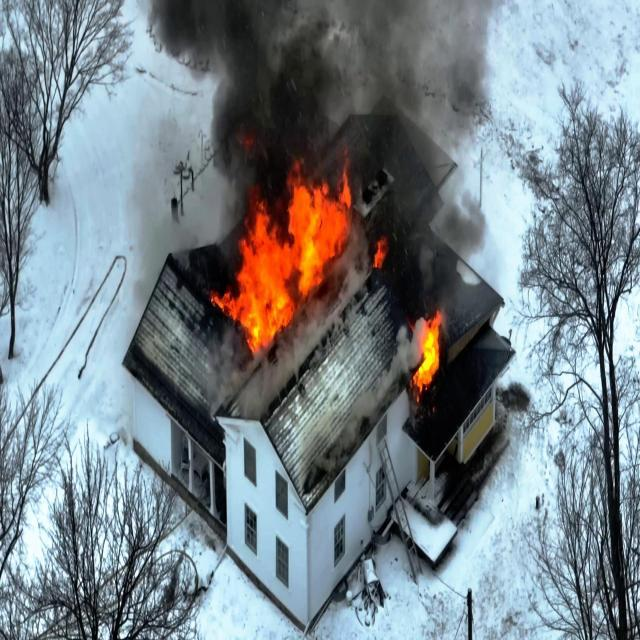Fire: (212, 181, 358, 352), (411, 310, 446, 403), (371, 232, 392, 279)
Smoke: (147, 0, 504, 161), (398, 178, 490, 310)
